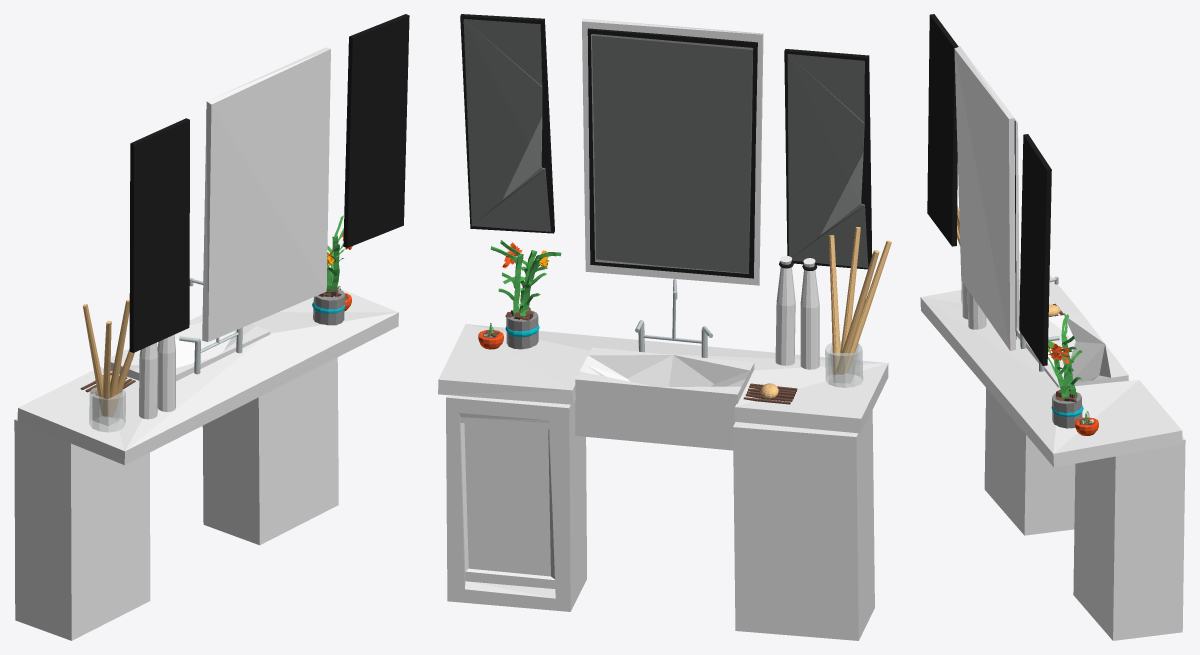
File: Sink %2B Mirrors.glb
3 views of the same model, side by side, from view 1: azimuth 30°, elevation 25°; view 2: azimuth 150°, elevation 25°; view 3: azimuth 270°, elevation 25° (orthographic). The views are drawn at different scales.
Parts seen in each view (by area): view 1: group15461534, group1575744091, group1018056280, group263665574, group610183896, group991233197, group340643401, group1195470410, group1093224649, group648614096, group1839963629, group890744220 (+2 smaller); view 2: group852497830, group792461075, group1575744091, group263665574, group1018056280, group610183896, group991233197, group189638433, group2107955321, group340643401, group15461534, group1195470410 (+7 smaller); view 3: group263665574, group1018056280, group15461534, group1575744091, group610183896, group991233197, group340643401, group792461075, group1839963629, group648614096.
Part boxes in pixels (<box>): group15461534: <box>202,47,330,341</box>; group1575744091: <box>14,418,150,640</box>; group1018056280: <box>17,288,398,465</box>; group263665574: <box>202,357,338,545</box>; group610183896: <box>343,14,409,247</box>; group991233197: <box>129,118,189,352</box>; group340643401: <box>110,314,270,381</box>; group1195470410: <box>139,342,158,419</box>; group1093224649: <box>89,387,125,432</box>; group648614096: <box>157,334,175,411</box>; group1839963629: <box>313,289,345,325</box>; group890744220: <box>109,299,129,410</box>; group852497830: <box>587,28,757,278</box>; group792461075: <box>591,34,752,273</box>; group1575744091: <box>733,410,874,640</box>; group263665574: <box>446,395,586,611</box>; group1018056280: <box>438,324,888,433</box>; group610183896: <box>460,14,554,233</box>; group991233197: <box>784,49,872,269</box>; group189638433: <box>463,19,550,231</box>; group2107955321: <box>788,54,867,267</box>; group340643401: <box>575,347,754,450</box>; group15461534: <box>582,18,763,285</box>; group1195470410: <box>800,258,819,369</box>; group263665574: <box>1073,437,1185,640</box>; group1018056280: <box>920,275,1182,467</box>; group15461534: <box>954,46,1015,350</box>; group1575744091: <box>984,388,1075,535</box>; group610183896: <box>1019,134,1051,365</box>; group991233197: <box>927,14,958,246</box>; group340643401: <box>1016,312,1128,387</box>; group792461075: <box>1014,119,1019,331</box>; group1839963629: <box>1052,392,1082,428</box>; group648614096: <box>967,290,986,329</box>.
Size of the model in its own units: 4.34 by 5.51 by 2.64.
